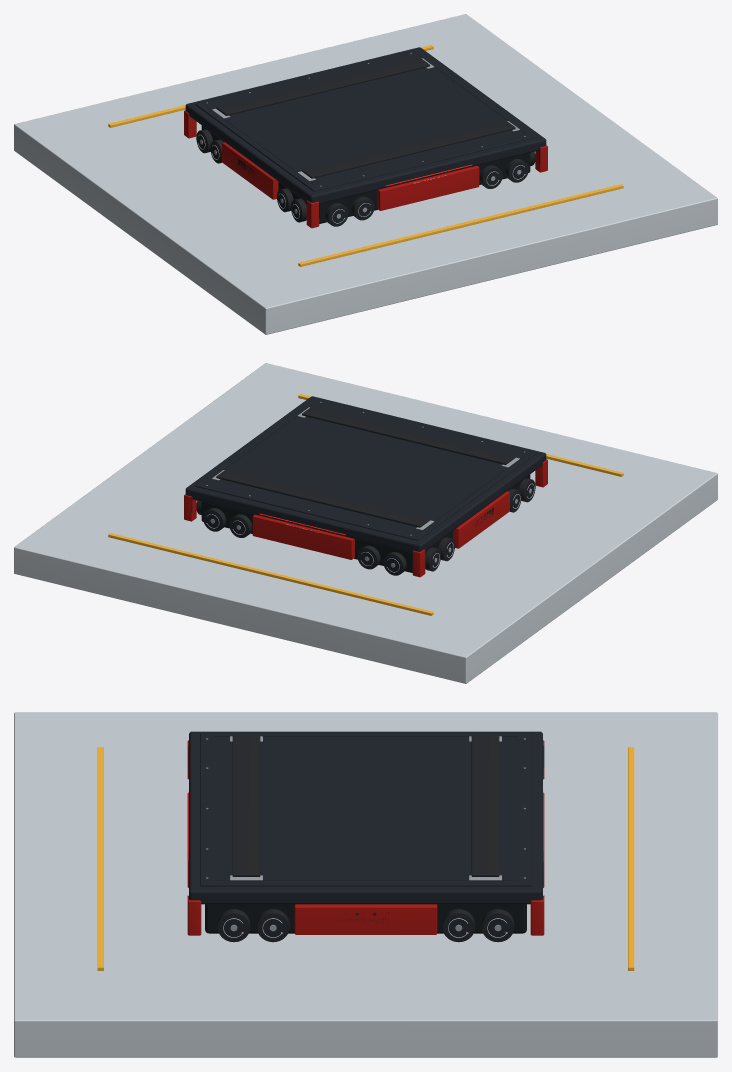
The picture shows the model from 3 angles, top to bottom: view 1: azimuth 30°, elevation 25°; view 2: azimuth 150°, elevation 25°; view 3: azimuth 270°, elevation 25°; orthographic projection. The views are drawn at different scales.
Parts seen in each view (by area): view 1: Ground plane, Cruiser flush central deck, Cruiser graphite upper rim, Cruiser load lift strip, Cruiser load lift strip.001, Cruiser lateral centre access panel, Concept clearance guide, Cruiser transverse centre access panel, Cruiser lower structural chassis; view 2: Ground plane, Cruiser flush central deck, Cruiser graphite upper rim, Cruiser load lift strip.001, Cruiser load lift strip, Cruiser lateral centre access panel.001, Concept clearance guide.001, Cruiser transverse centre access panel, Cruiser lower structural chassis; view 3: Ground plane, Cruiser flush central deck, Cruiser graphite upper rim, Cruiser transverse centre access panel.001, Cruiser load lift strip, Cruiser load lift strip.001, Cruiser lower structural chassis, Concept clearance guide, Concept clearance guide.001.
Boxes of the visible parts, x1,y1,x2,y2 form: Ground plane: (14, 14, 717, 334); Cruiser flush central deck: (195, 49, 536, 191); Cruiser graphite upper rim: (185, 47, 546, 203); Cruiser load lift strip: (302, 120, 515, 178); Cruiser load lift strip.001: (216, 57, 429, 115); Cruiser lateral centre access panel: (377, 165, 479, 210); Concept clearance guide: (298, 184, 623, 266); Cruiser transverse centre access panel: (222, 142, 278, 199); Cruiser lower structural chassis: (201, 125, 530, 223); Ground plane: (14, 363, 717, 683); Cruiser flush central deck: (195, 398, 536, 540); Cruiser graphite upper rim: (185, 396, 546, 552); Cruiser load lift strip.001: (216, 469, 429, 527); Cruiser load lift strip: (302, 406, 515, 464); Cruiser lateral centre access panel.001: (252, 514, 354, 559); Concept clearance guide.001: (108, 533, 433, 615); Cruiser transverse centre access panel: (453, 491, 509, 548); Cruiser lower structural chassis: (201, 474, 530, 572); Ground plane: (14, 712, 717, 1057); Cruiser flush central deck: (200, 733, 531, 886); Cruiser graphite upper rim: (189, 731, 542, 904); Cruiser transverse centre access panel.001: (294, 904, 437, 934); Cruiser load lift strip: (232, 735, 260, 876); Cruiser load lift strip.001: (471, 735, 499, 876); Cruiser lower structural chassis: (205, 904, 526, 933); Concept clearance guide: (97, 747, 103, 970); Concept clearance guide.001: (628, 747, 634, 970).
Size of the model in its own units: 2.1 by 0.315 by 2.03.
